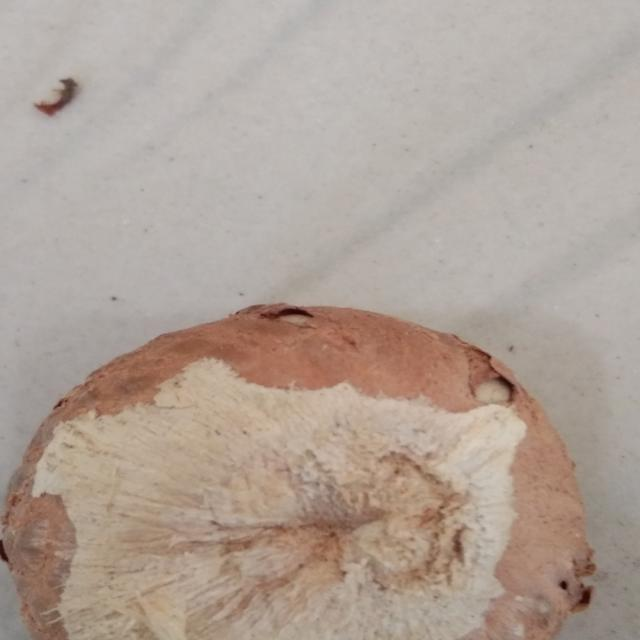karigot: (0, 299, 613, 640)
